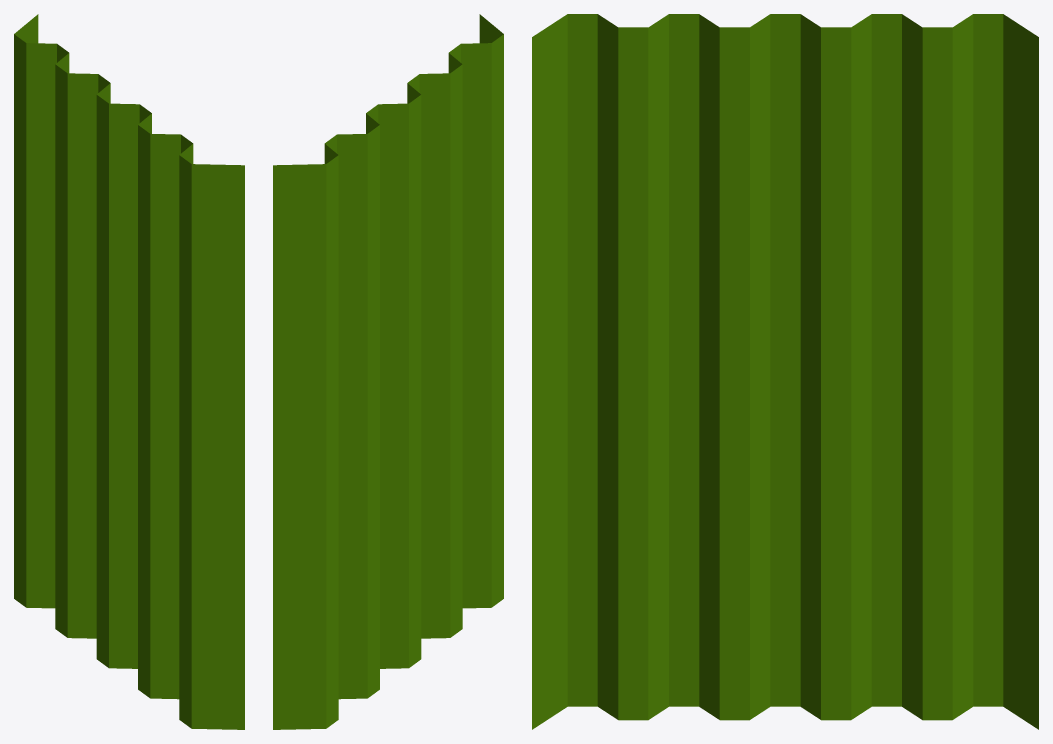
The model's file is SM_Tole1.fbx.
The picture shows the model from 3 angles, left to right: view 1: azimuth 30°, elevation 25°; view 2: azimuth 150°, elevation 25°; view 3: azimuth 270°, elevation 25°; orthographic projection. The views are drawn at different scales.
Visible parts, largest first — view 1: Tole1; view 2: Tole1; view 3: Tole1.
Boxes of the visible parts, <box> form: Tole1: <box>14,14,244,729</box>; Tole1: <box>273,14,503,729</box>; Tole1: <box>532,14,1038,729</box>.
Bounding box in the file's own units: 9.25 × 129 × 85.39.
